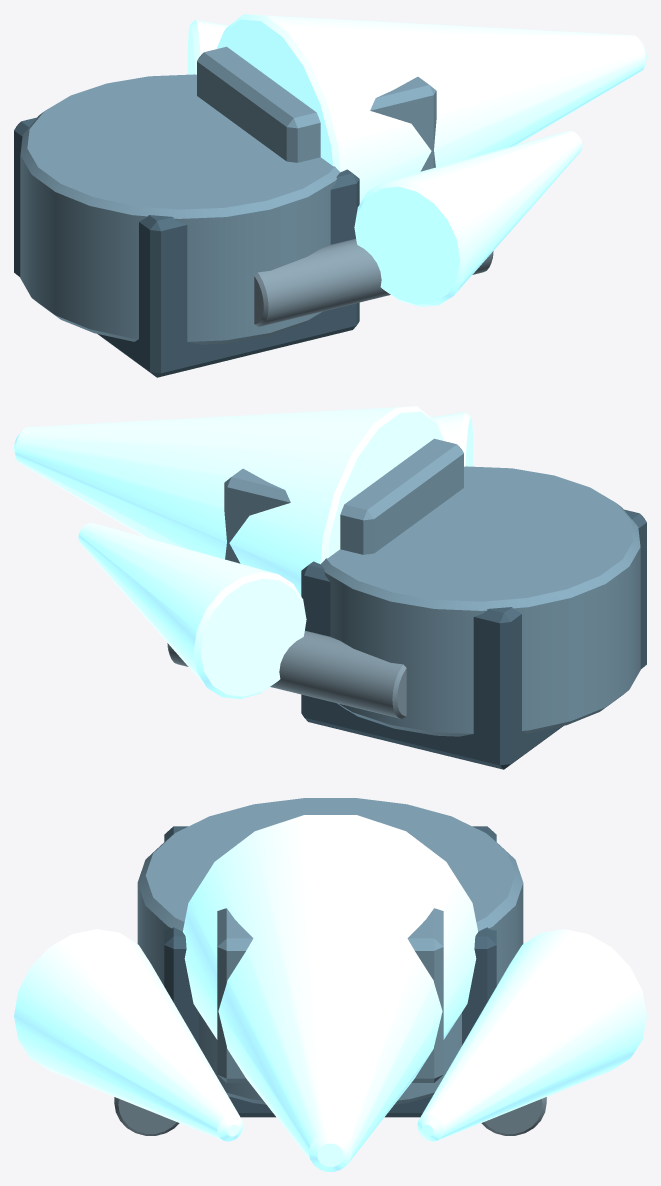
The model's file is frost_turret_l1.glb.
The picture shows the model from 3 angles, top to bottom: view 1: azimuth 30°, elevation 25°; view 2: azimuth 150°, elevation 25°; view 3: azimuth 270°, elevation 25°; orthographic projection. The views are drawn at different scales.
Parts seen in each view (by area): view 1: Cylinder, Cone, Cone.001, Cube, Cube.001, Cylinder.001, Cone.002; view 2: Cylinder, Cone, Cone.002, Cube, Cube.001, Cylinder.002, Cone.001; view 3: Cone, Cone.001, Cone.002, Cylinder, Cube, Cube.001, Cylinder.001, Cylinder.002.
Boxes of the visible parts, x1=… form: Cylinder: x1=20, y1=74, x2=340, y2=344; Cone: x1=216, y1=14, x2=646, y2=203; Cone.001: x1=354, y1=131, x2=582, y2=307; Cube: x1=14, y1=117, x2=359, y2=377; Cube.001: x1=197, y1=46, x2=436, y2=171; Cylinder.001: x1=254, y1=238, x2=493, y2=326; Cone.002: x1=187, y1=20, x2=229, y2=74; Cylinder: x1=320, y1=466, x2=640, y2=736; Cone: x1=14, y1=406, x2=444, y2=595; Cone.002: x1=78, y1=523, x2=306, y2=699; Cube: x1=301, y1=509, x2=646, y2=769; Cube.001: x1=224, y1=438, x2=463, y2=563; Cylinder.002: x1=167, y1=630, x2=406, y2=718; Cone.001: x1=431, y1=412, x2=473, y2=466; Cone: x1=183, y1=815, x2=477, y2=1171; Cone.001: x1=14, y1=929, x2=243, y2=1141; Cone.002: x1=417, y1=929, x2=646, y2=1141; Cylinder: x1=137, y1=798, x2=523, y2=1104; Cube: x1=164, y1=826, x2=496, y2=1117; Cube.001: x1=217, y1=908, x2=443, y2=1082; Cylinder.001: x1=114, y1=1097, x2=179, y2=1135; Cylinder.002: x1=481, y1=1097, x2=546, y2=1135.
Size of the model in its own units: 1.2 by 0.4939 by 0.9517.
